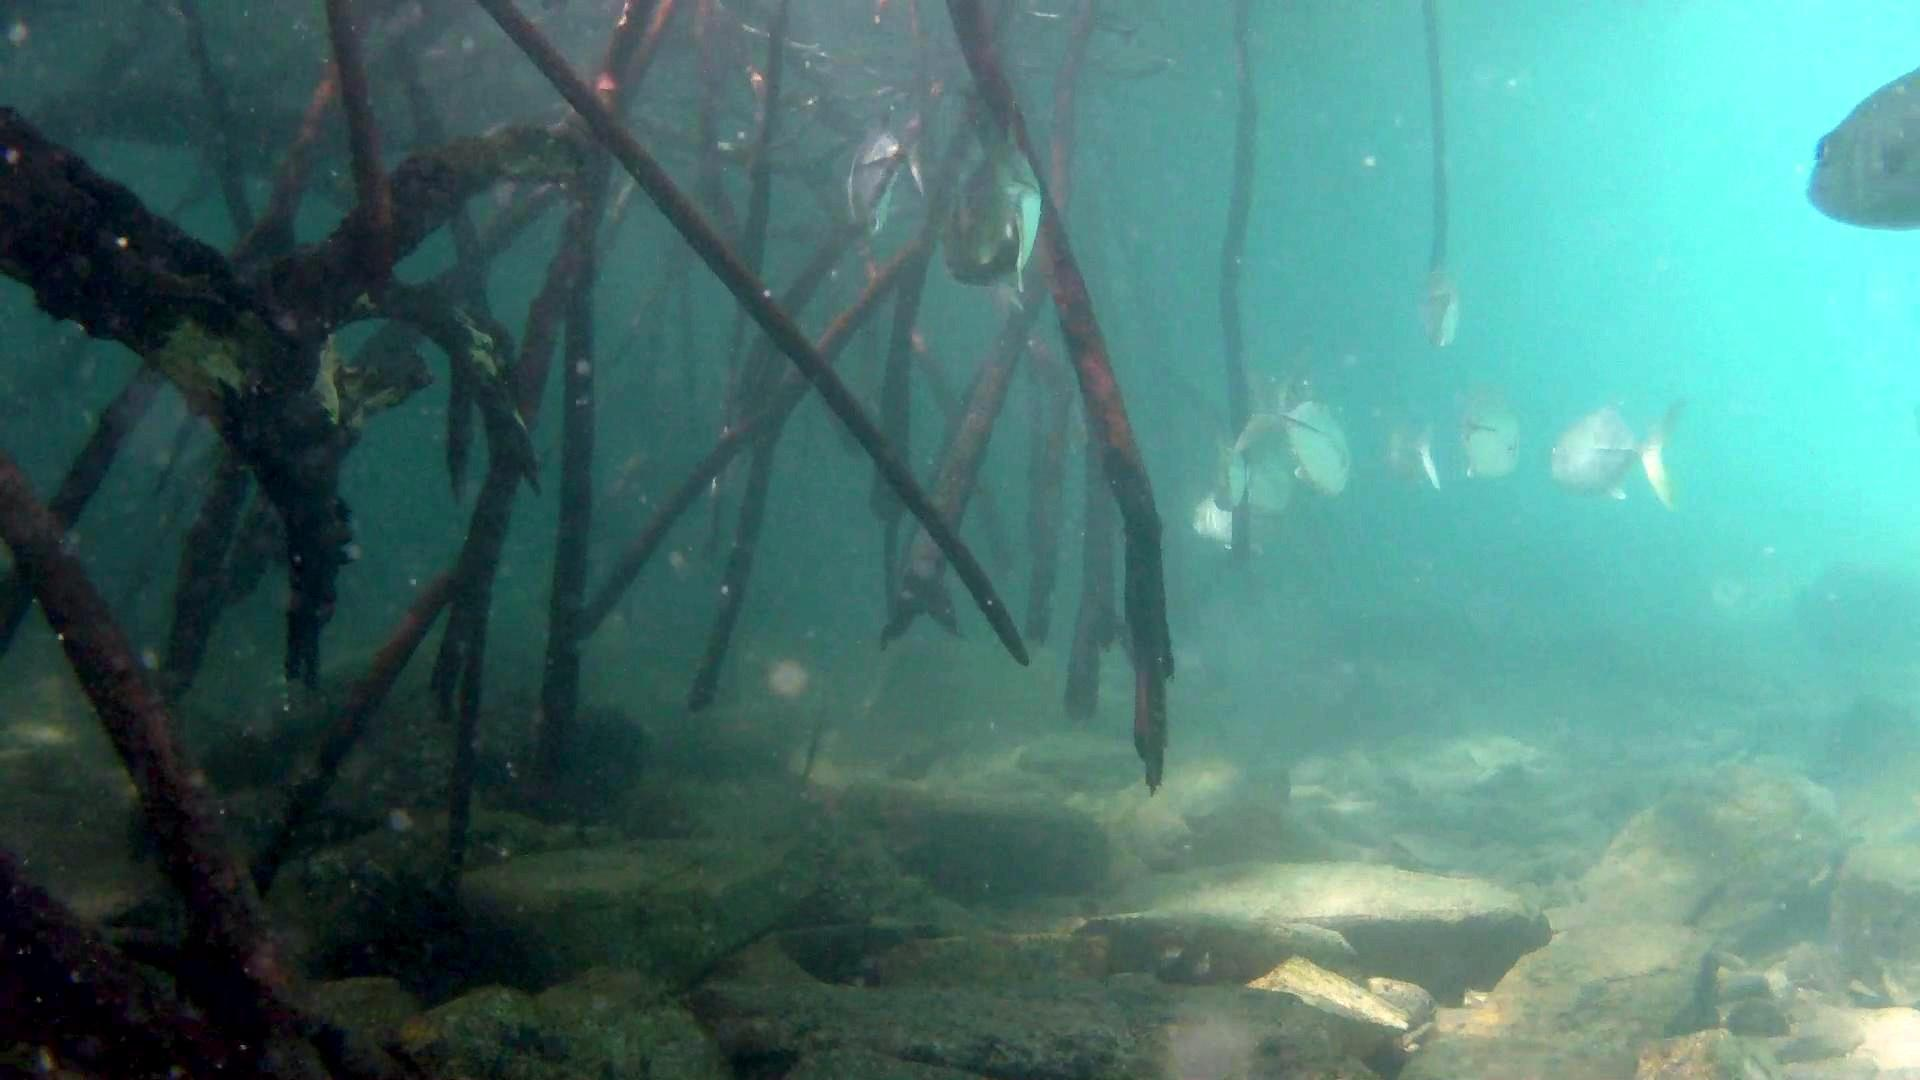caranx: (1796, 54, 1920, 239)
